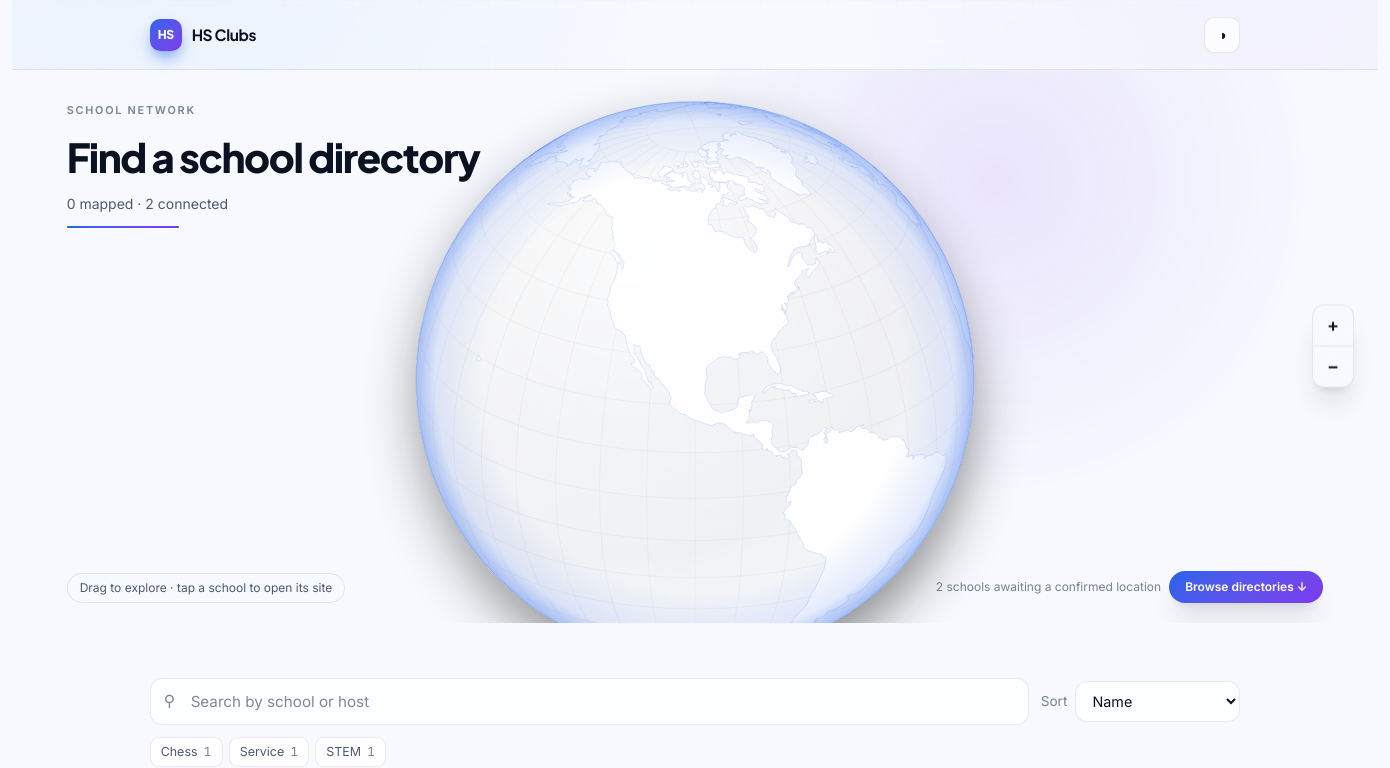
Test: the directory page › narrows by search and by category, and explains an empty result
Type "demo" into the search field with placeholder "Search by school or host" at (589, 701), box [150,678,1029,725]
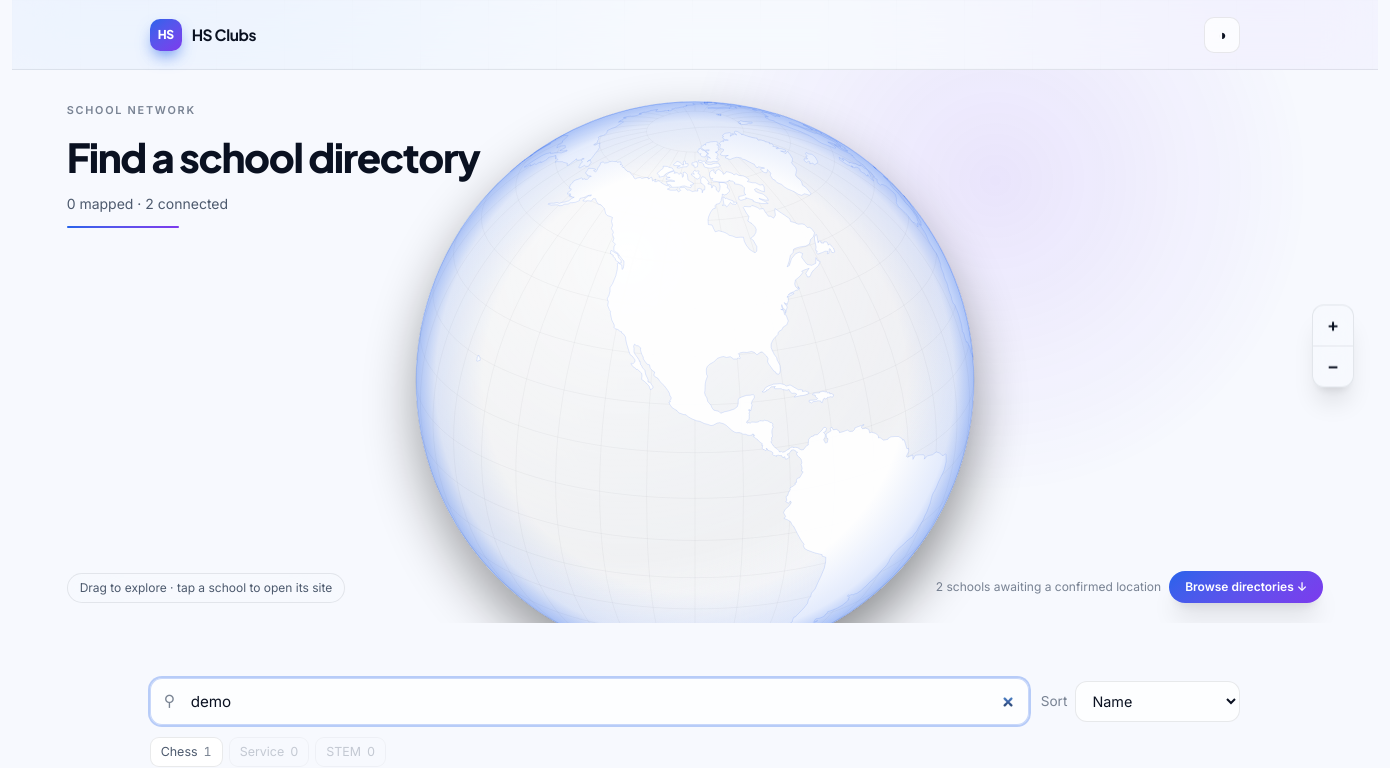
Clear the search field with placeholder "Search by school or host" at (589, 701), box [150,678,1029,725]
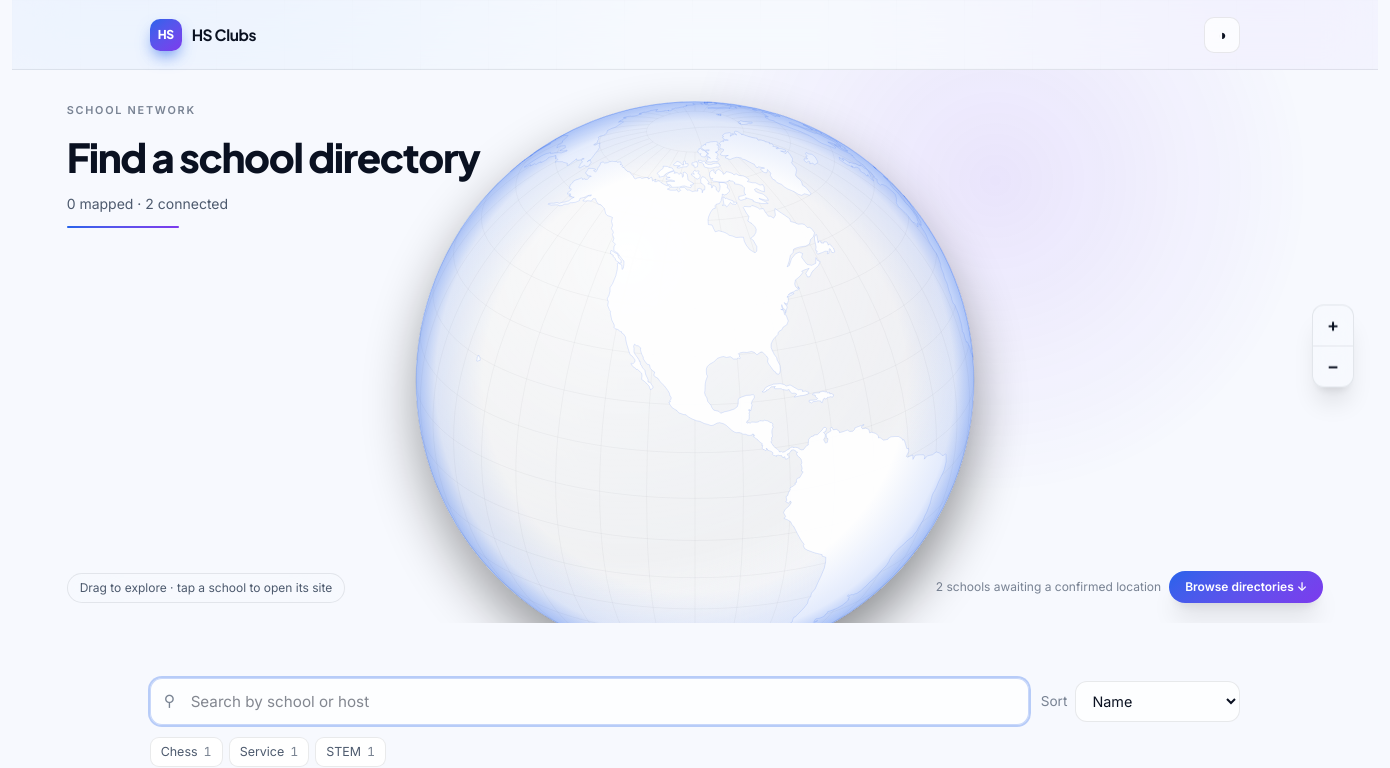
Click the button "STEM1" at (351, 752), box [315,737,386,767]
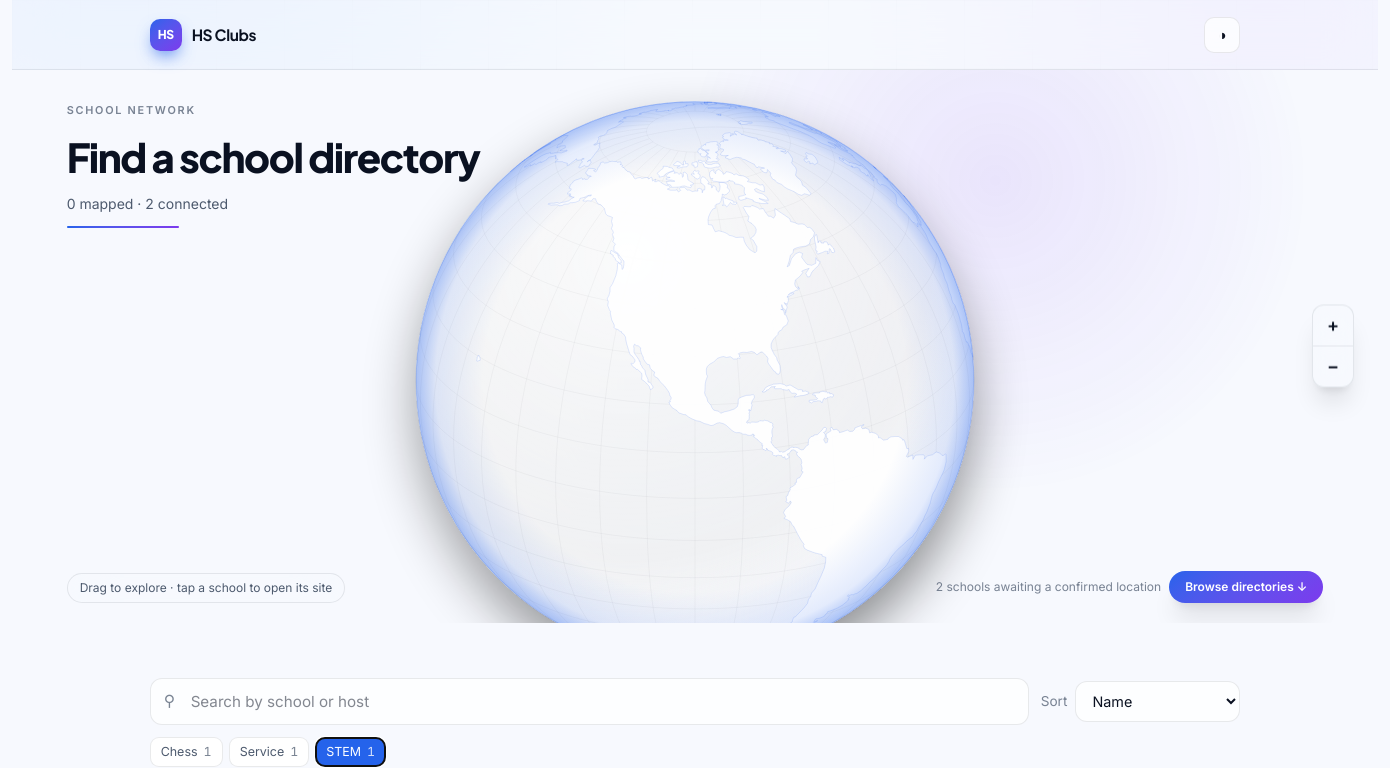
Type "demo" into the search field with placeholder "Search by school or host" at (589, 701), box [150,678,1029,725]
(page scrolled)
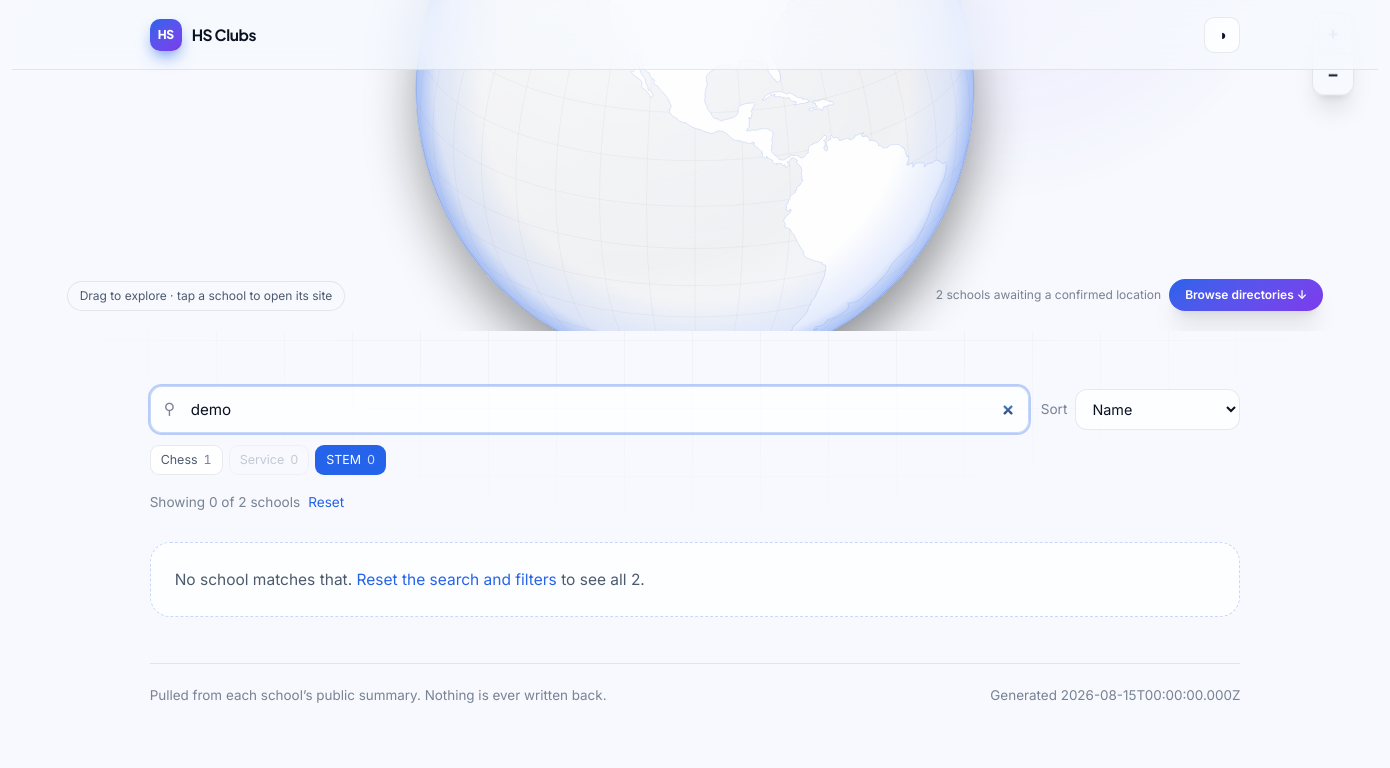
expect the text "No school matches that" is shown: met, box [175,570,352,589]
